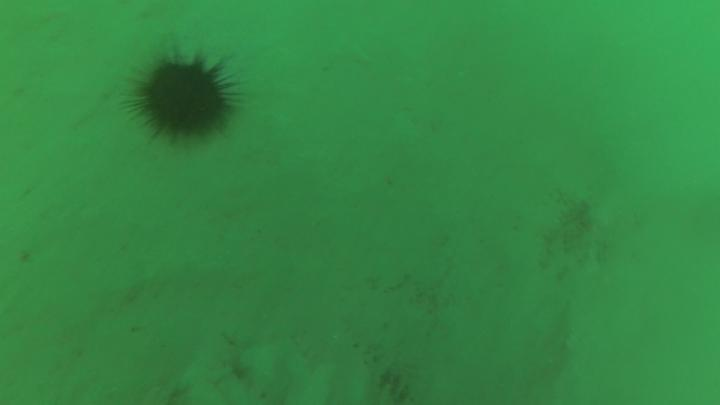echinus: (143, 64, 227, 137)
